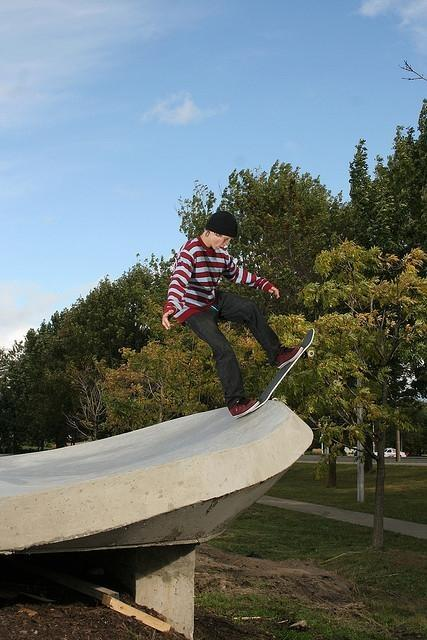car: (374, 448, 406, 459)
